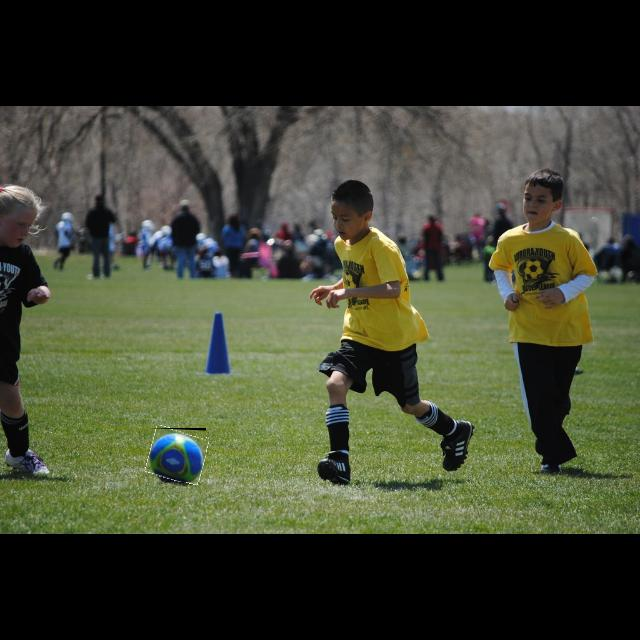Football: (148, 428, 206, 482)
